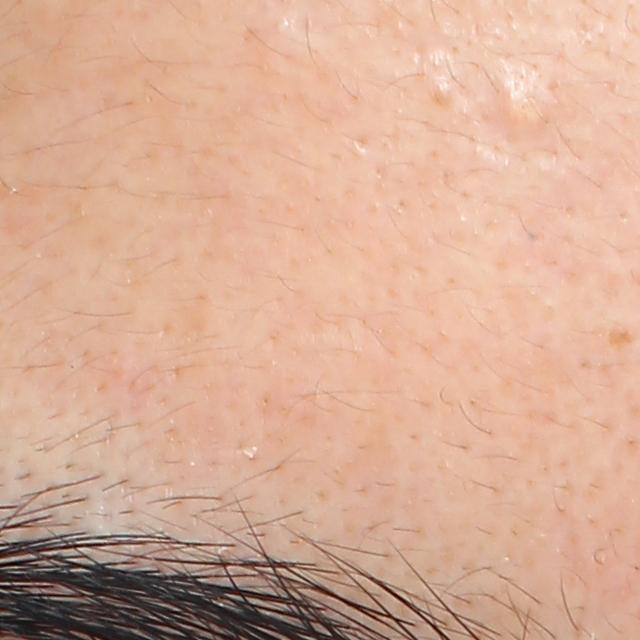comedo: (496, 72, 549, 138), (429, 80, 455, 110)
